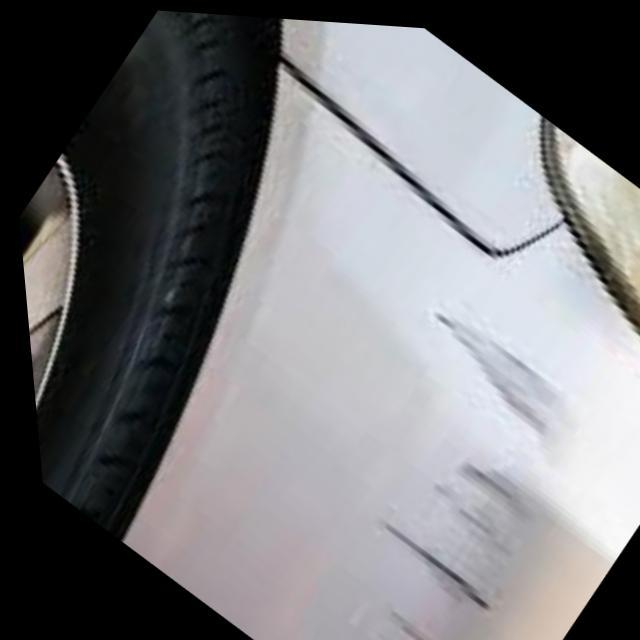crack: (368, 306, 576, 640)
